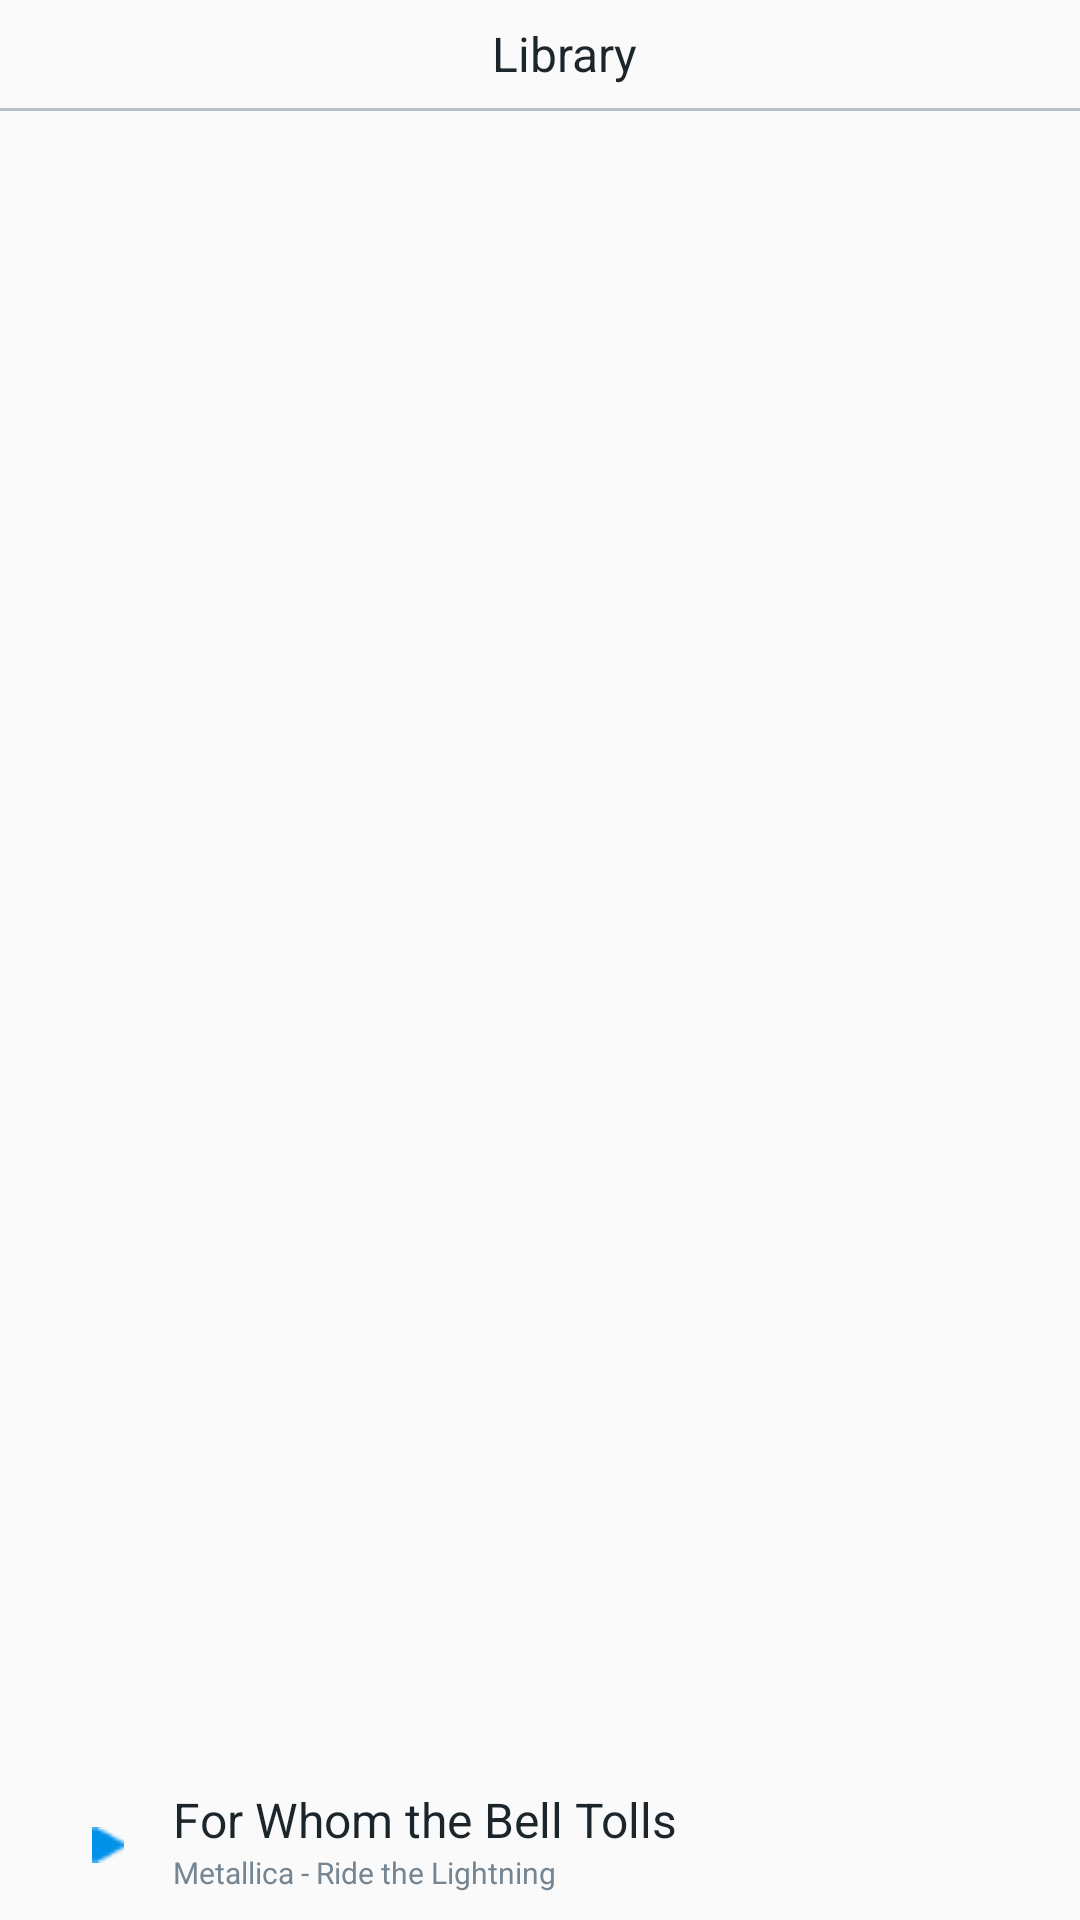

Locate icon controls on the screen. Image size 1080×1920, boxes as {"left": x1, "top": y1, "right": x2, "bottom": y2}.
playblue: {"left": 92, "top": 1827, "right": 124, "bottom": 1863}
